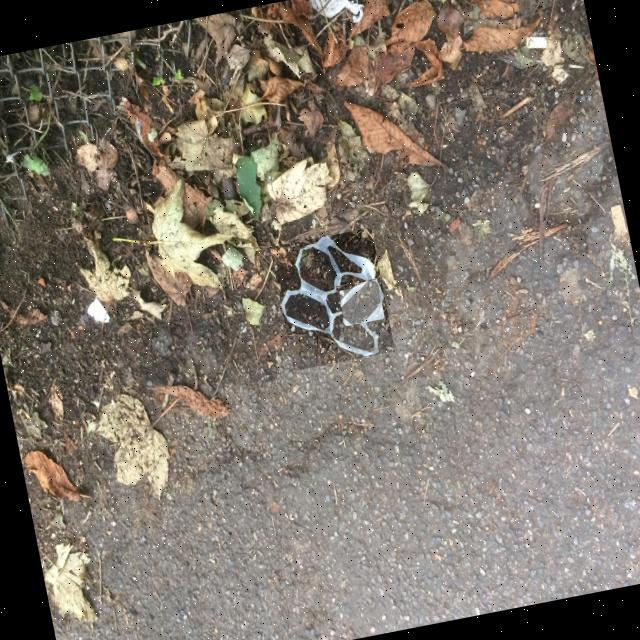Cigarette: (527, 37, 551, 48)
Six pack rings: (282, 237, 385, 357), (342, 282, 382, 325), (319, 244, 354, 292)
Unlabeled litter: (308, 0, 363, 23)
